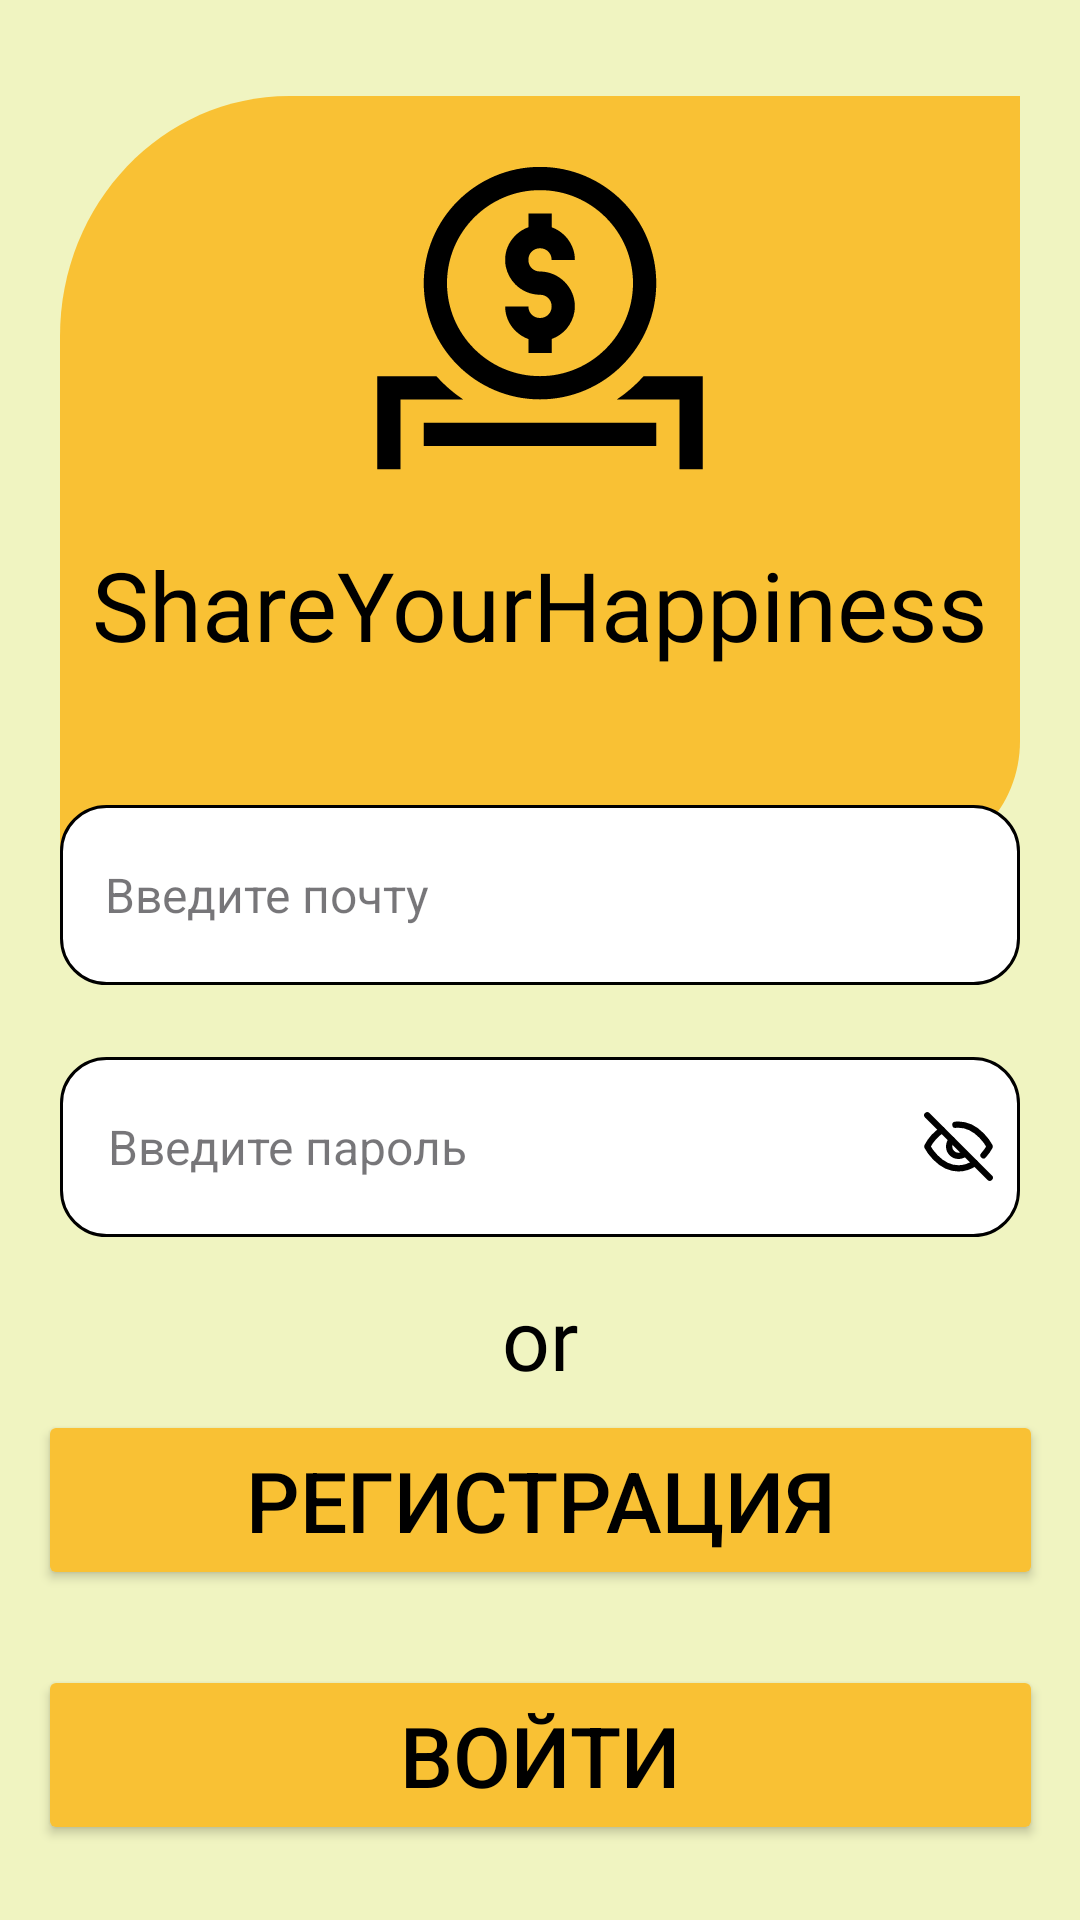

Where to tap for icons on this 1080w x 1920h app screen, as [x,y]:
givememoney: [540,318]
hidepassword: [958,1146]
